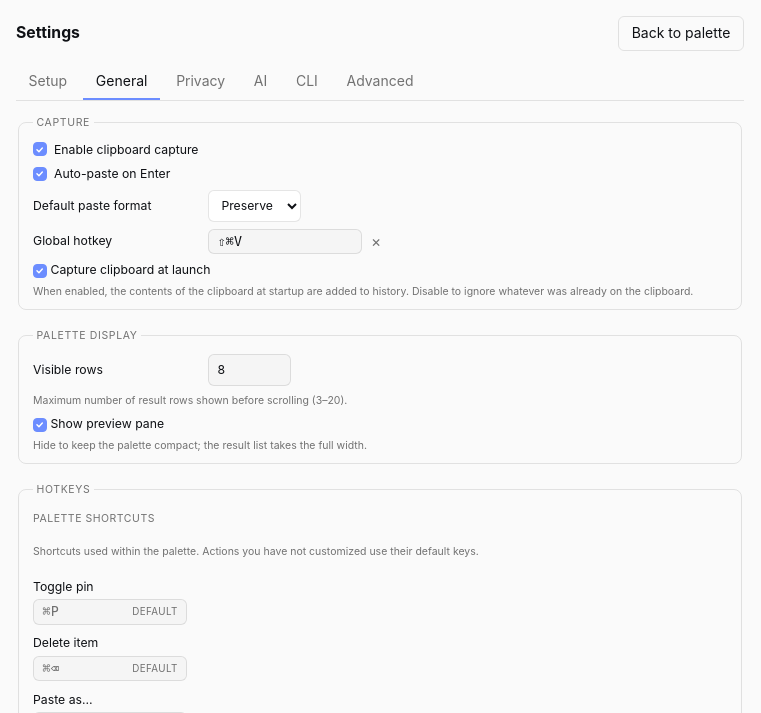
it: SettingsView Advanced tab — capability table › flips Auto-paste to Available when Accessibility is granted
Click the tab "Advanced": (380, 82) [334,65,426,100]
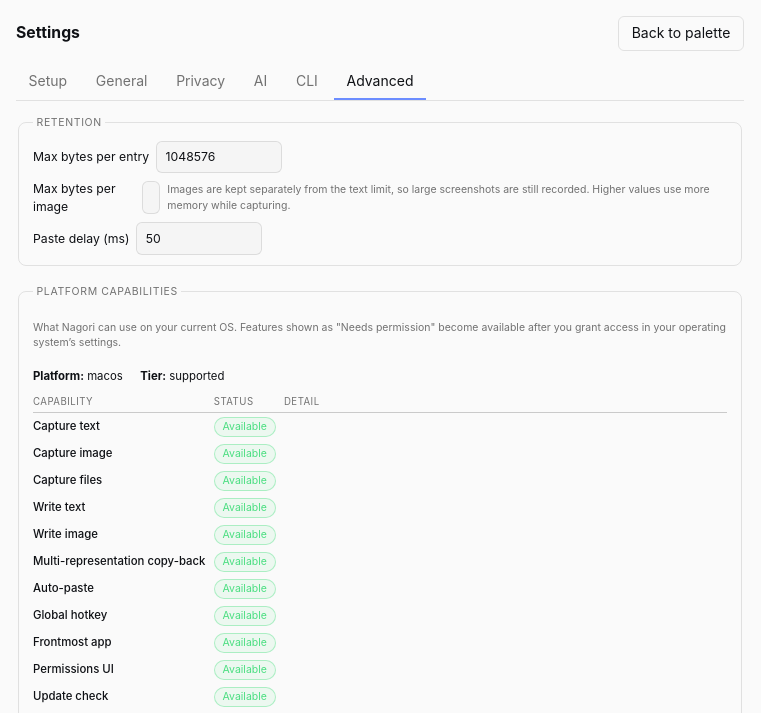
Result: the text "Platform capabilities" is shown at [33,284,181,299]
Result: the text with class "capability-status" next to "Capture text" reads "Available" at [222,420,267,433]
